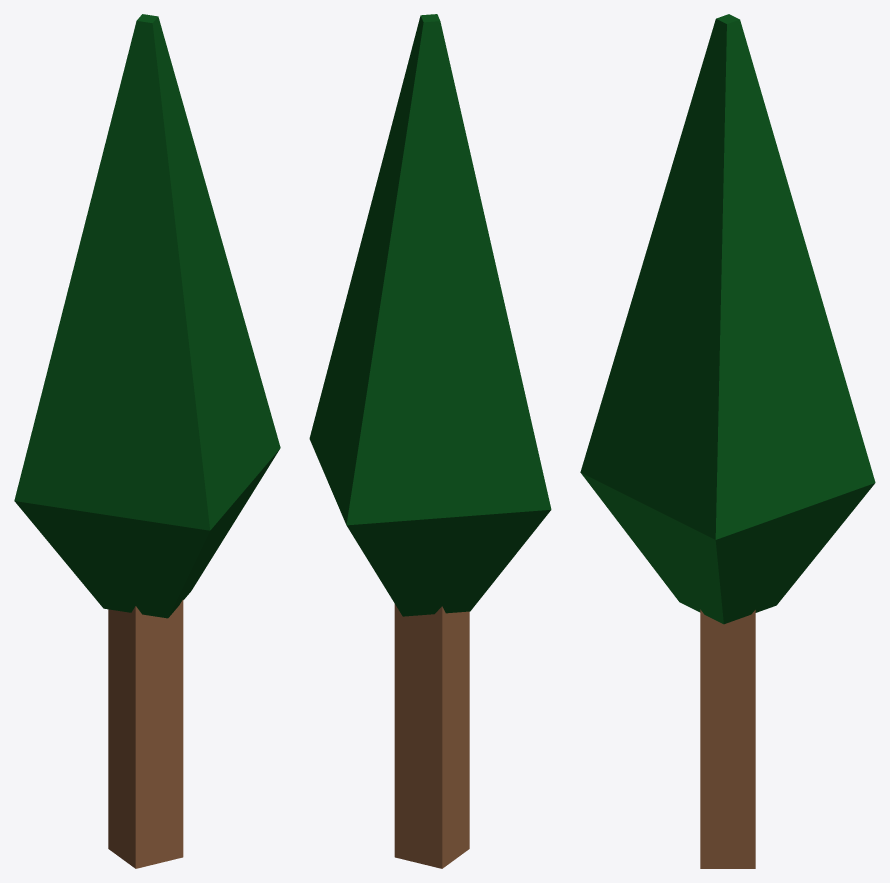
The model's file is tree-summer-complete-14-037.glb.
3 renders of one model, left to right at view 1: azimuth 30°, elevation 25°; view 2: azimuth 150°, elevation 25°; view 3: azimuth 270°, elevation 25°, orthographic.
Parts seen in each view (by area): view 1: Tree 14_96; view 2: Tree 14_96; view 3: Tree 14_96.
Part boxes in pixels (box(x1,y1,x2,y2)): Tree 14_96: box(14, 14, 280, 868); Tree 14_96: box(309, 14, 551, 868); Tree 14_96: box(580, 14, 875, 868).
Bounding box in the file's own units: 0.6307 × 1.98 × 0.6307.
